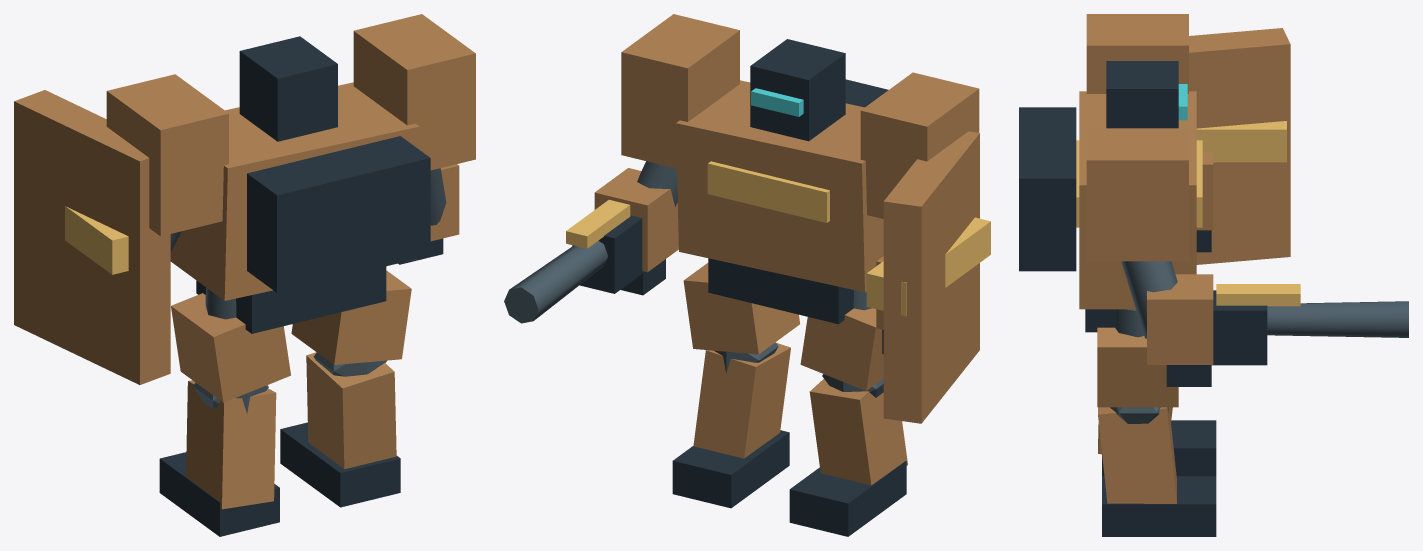
File: frame-tortuga.glb
3 renders of one model, left to right at view 1: azimuth 30°, elevation 25°; view 2: azimuth 150°, elevation 25°; view 3: azimuth 270°, elevation 25°, orthographic. The views are drawn at different scales.
Visible parts, largest first — view 1: frame-tortuga; view 2: frame-tortuga; view 3: frame-tortuga.
Boxes of the visible parts, x1,y1,x2,y2 form: frame-tortuga: [14, 14, 475, 536]; frame-tortuga: [504, 14, 990, 536]; frame-tortuga: [1019, 14, 1408, 536].
Bounding box in the file's own units: 1.36 × 1.54 × 1.29.
